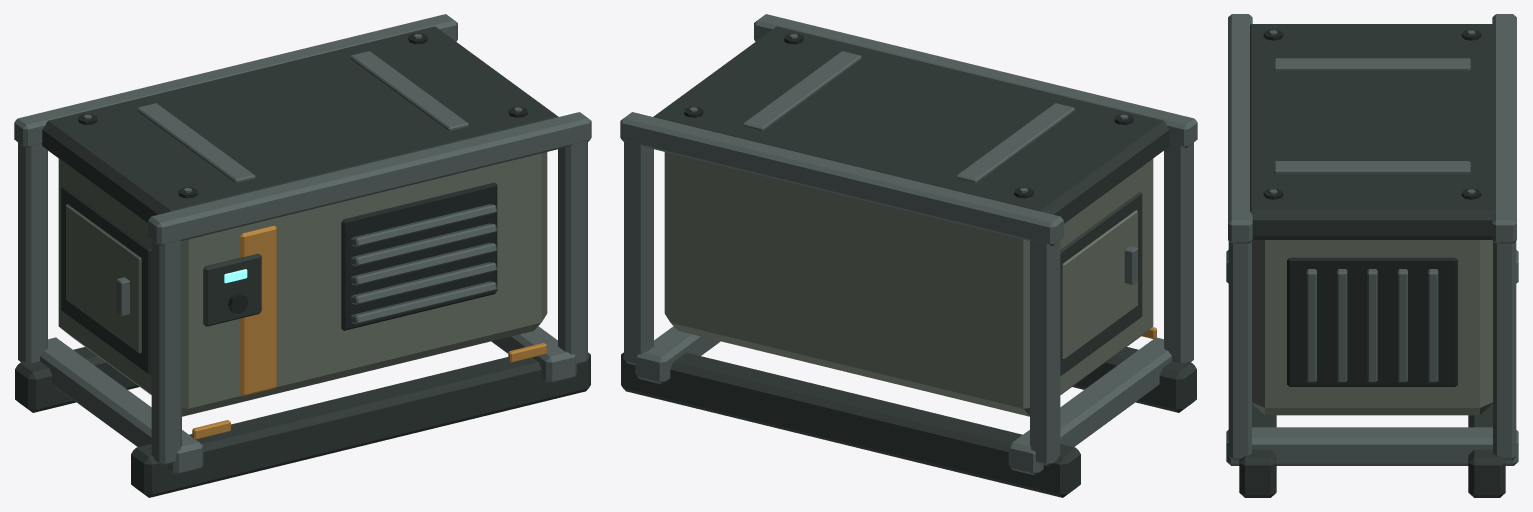
File: SmallGenerator.glb
The picture shows the model from 3 angles, left to right: view 1: azimuth 30°, elevation 25°; view 2: azimuth 150°, elevation 25°; view 3: azimuth 270°, elevation 25°; orthographic projection.
Visible parts, largest first — view 1: SmallGenerator; view 2: SmallGenerator; view 3: SmallGenerator.
Boxes of the visible parts, x1,y1,x2,y2 form: SmallGenerator: [14, 14, 591, 497]; SmallGenerator: [620, 14, 1197, 497]; SmallGenerator: [1226, 14, 1518, 497].
Size of the model in its own units: 2.18 by 1.33 by 1.25.
1 material, 1 textured.
